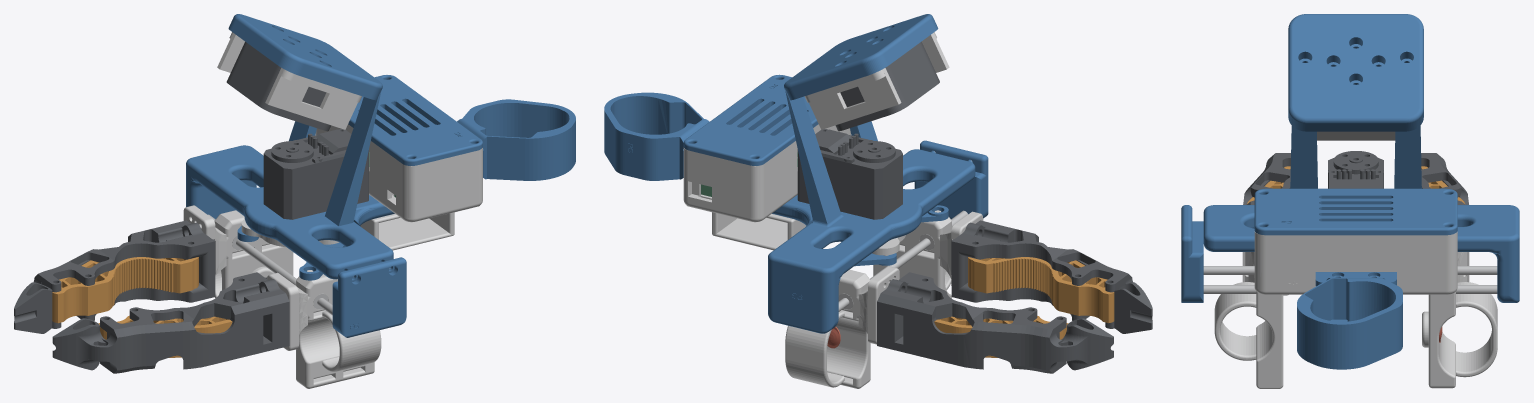
The model's file is umi_right_open-enpire.glb.
3 views of the same model, side by side, from view 1: azimuth 30°, elevation 25°; view 2: azimuth 150°, elevation 25°; view 3: azimuth 270°, elevation 25° (orthographic). The views are drawn at different scales.
Visible parts, largest first — view 1: main_support, tip_thumb, tip_index, controller_support, thumb_link, electronics_box, servo_sts3215, electronics_lid, tip_index_1, main_support_cover_plate, index_link, camera_hood (+4 smaller); view 2: main_support, tip_index, tip_thumb, controller_support, index_link, electronics_box, servo_sts3215, electronics_lid, tip_thumb_1, camera_hood, thumb_link, d405 (+4 smaller); view 3: main_support, electronics_box, electronics_lid, controller_support, index_link, thumb_link, main_support_cover_plate, servo_sts3215, tip_thumb, tip_index, rod_-8, rod_-28 (+1 smaller).
Boxes of the visible parts, x1,y1,x2,y2 form: main_support: [186, 14, 394, 279]; tip_thumb: [52, 272, 289, 373]; tip_index: [14, 220, 215, 333]; controller_support: [457, 99, 575, 180]; thumb_link: [267, 270, 381, 388]; electronics_box: [315, 124, 482, 222]; servo_sts3215: [263, 129, 368, 219]; electronics_lid: [348, 75, 482, 165]; tip_index_1: [52, 257, 198, 323]; main_support_cover_plate: [332, 257, 406, 337]; index_link: [183, 205, 293, 298]; camera_hood: [217, 32, 361, 129]; main_support: [768, 14, 975, 333]; tip_index: [877, 272, 1113, 373]; tip_thumb: [951, 220, 1152, 333]; controller_support: [604, 92, 709, 180]; index_link: [785, 266, 899, 388]; electronics_box: [683, 124, 850, 222]; servo_sts3215: [797, 129, 902, 219]; electronics_lid: [683, 74, 818, 165]; tip_thumb_1: [968, 257, 1114, 323]; camera_hood: [804, 32, 949, 129]; thumb_link: [873, 210, 983, 298]; d405: [835, 41, 939, 131]; main_support: [1203, 14, 1519, 302]; electronics_box: [1254, 231, 1457, 294]; electronics_lid: [1254, 188, 1457, 235]; controller_support: [1297, 272, 1402, 369]; index_link: [1422, 252, 1497, 388]; thumb_link: [1214, 252, 1288, 388]; main_support_cover_plate: [1181, 205, 1203, 302]; servo_sts3215: [1328, 151, 1383, 188]; tip_thumb: [1243, 153, 1290, 204]; tip_index: [1421, 153, 1468, 204]; rod_-8: [1203, 285, 1497, 293]; rod_-28: [1203, 266, 1497, 274].
Bounding box in the file's own units: 0.2878 × 0.1669 × 0.15.
